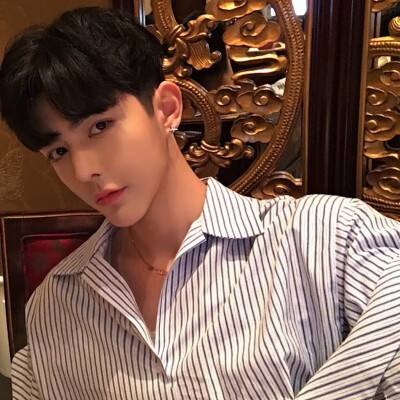person: (7, 22, 387, 400)
